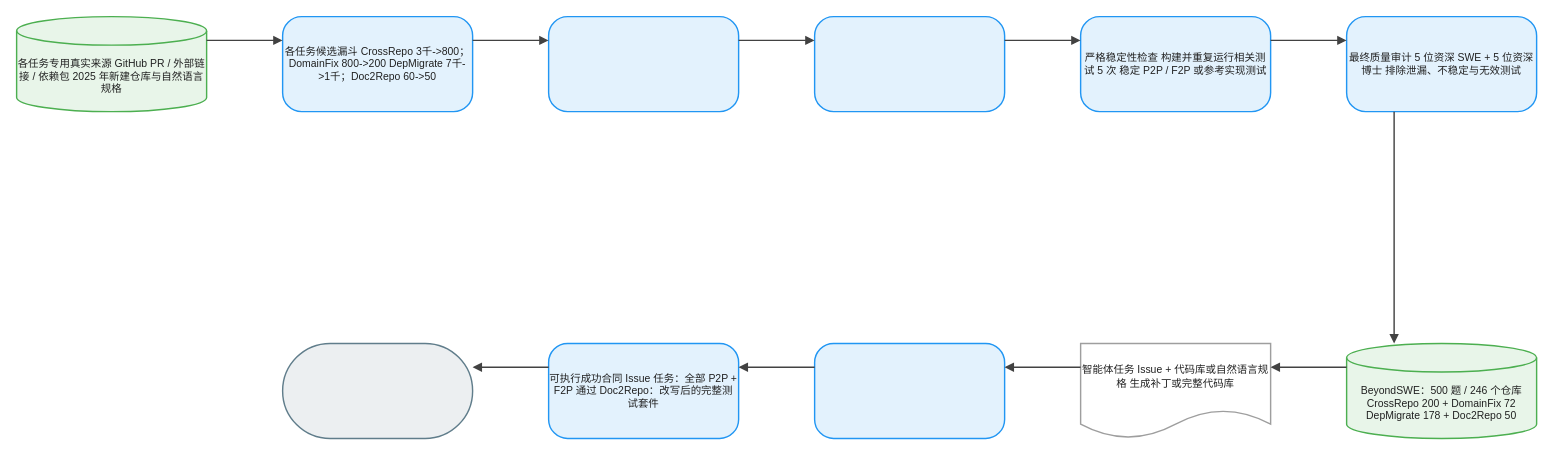
This 1554x456 diagram has some shape labels left out. The shapes that lost their labels are listed below. From the top down, each one's centre as x and y in pixels, then its label:
At pixel 643 63: "按任务类型专家复核 外链相关性 / 三位领域专家 四位 SWE 专家 / 规格-测试对齐".
At pixel 909 63: "智能体辅助 Docker 构建 Ubuntu + PR 前代码库 将成功配置命令固化为 Dockerfile".
At pixel 377 390: "任务专用指标 Issue 任务报告问题解决率 Doc2Repo 报告通过率 + 近乎正确数".
At pixel 909 390: "独立最终验证 将变更应用到纯净容器 恢复测试；移除未来历史".
